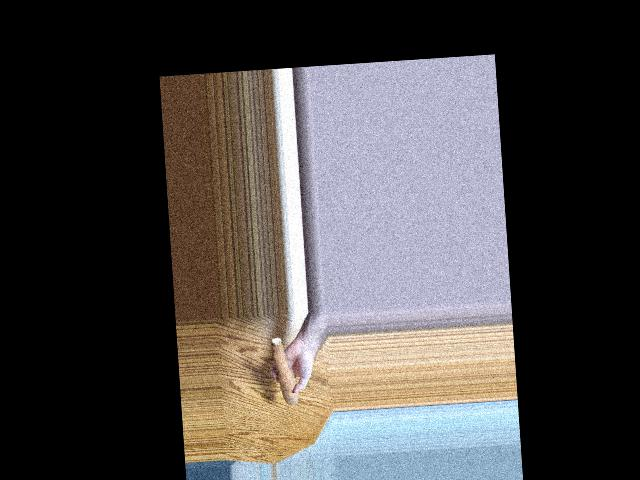sweet_potato: (272, 333, 295, 409)
